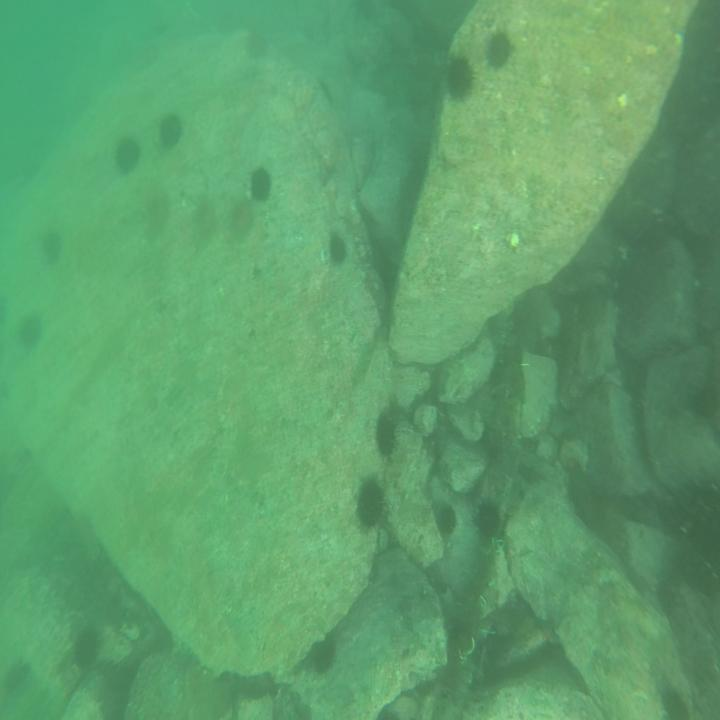echinus: (355, 480, 387, 532), (138, 194, 170, 240), (226, 195, 254, 246), (186, 196, 214, 246), (374, 414, 404, 460), (446, 55, 473, 104), (485, 26, 517, 66), (472, 500, 504, 538), (117, 136, 143, 177), (68, 632, 99, 666), (156, 115, 182, 148), (314, 640, 336, 678), (248, 166, 270, 203), (327, 227, 347, 264), (18, 309, 38, 345), (40, 227, 60, 261), (437, 507, 456, 542)
